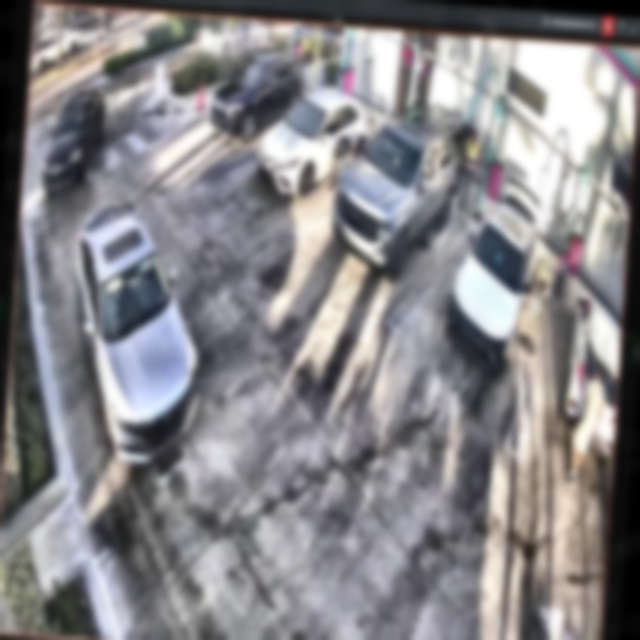Car: (62, 196, 216, 467), (329, 102, 465, 283), (447, 174, 542, 378), (253, 82, 375, 204)
